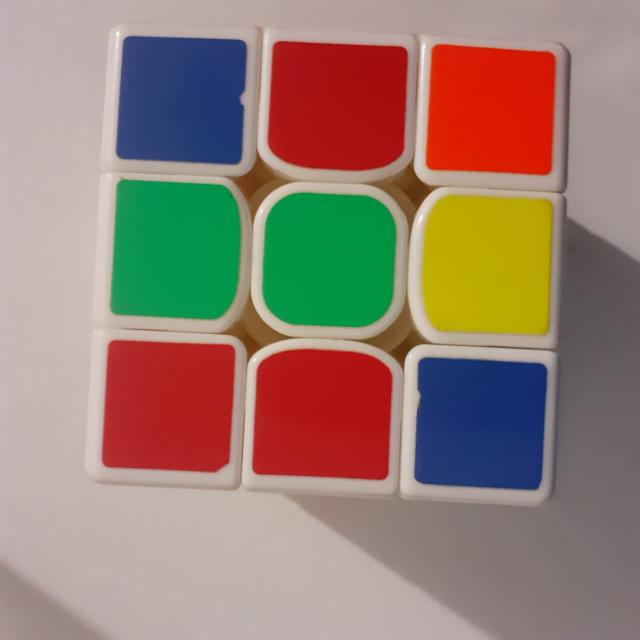Blue: (408, 350, 556, 504), (112, 28, 250, 172)
Green: (255, 188, 402, 332), (105, 180, 242, 326)
Orange: (424, 41, 558, 182)
Red: (92, 333, 242, 489), (250, 343, 398, 493), (262, 32, 408, 178)
Yellow: (414, 192, 558, 340)
